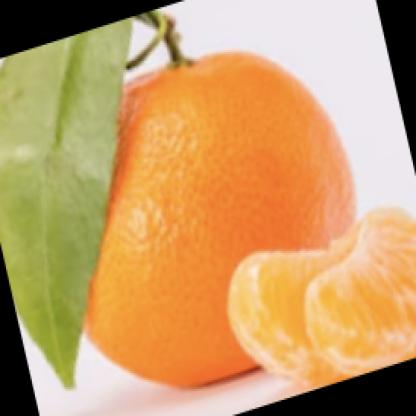fresh: (51, 52, 358, 391)
